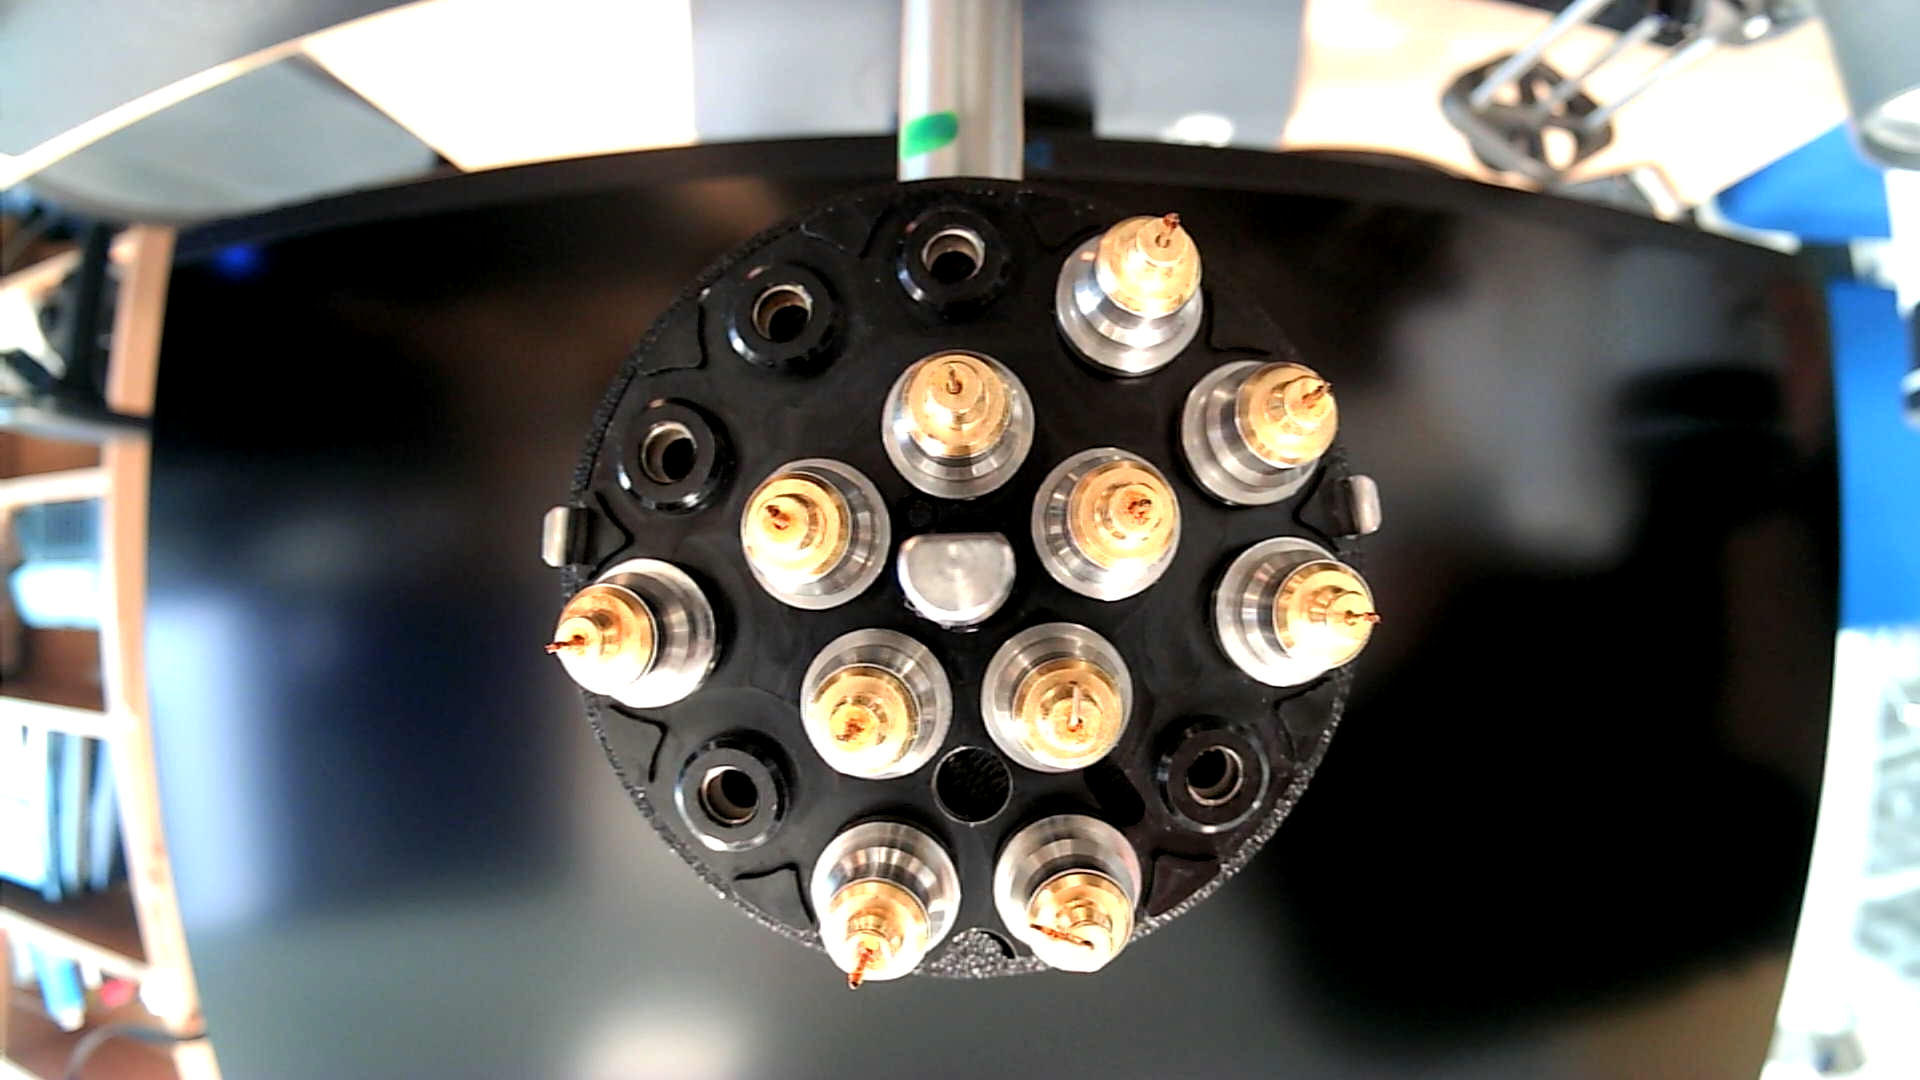bent: (992, 811, 1150, 981), (980, 617, 1138, 781)
empty: (880, 202, 1025, 328), (669, 727, 799, 866), (717, 255, 858, 382), (1146, 712, 1276, 840), (611, 390, 742, 517)
hole: (930, 742, 1014, 829)
pin: (541, 553, 725, 711), (807, 814, 963, 992), (1205, 533, 1377, 690), (1055, 208, 1207, 380), (796, 625, 956, 782), (877, 345, 1036, 502), (1029, 446, 1183, 605), (1178, 359, 1337, 513), (738, 455, 894, 611)
rod: (895, 527, 1018, 632)
